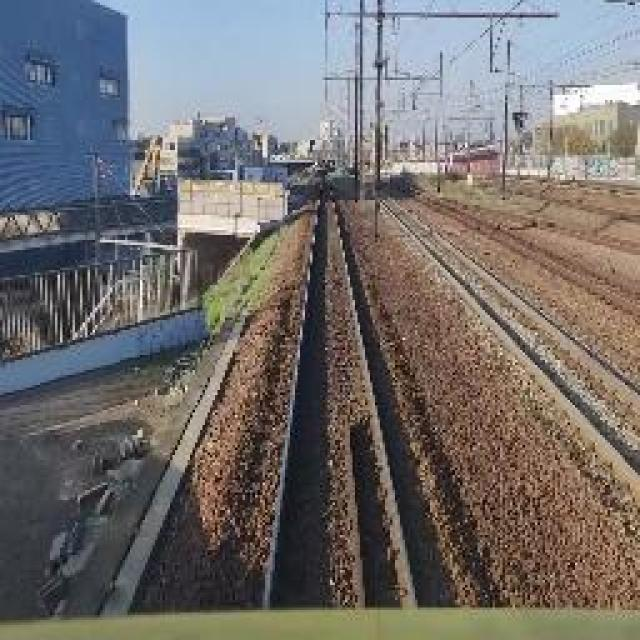rail: (235, 180, 450, 615)
